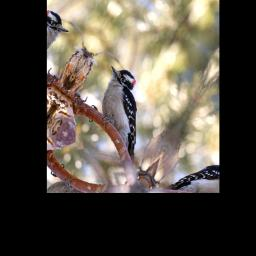Woodpecker: (78, 60, 169, 164)
